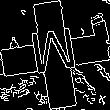M_S: (28, 26, 82, 84)
